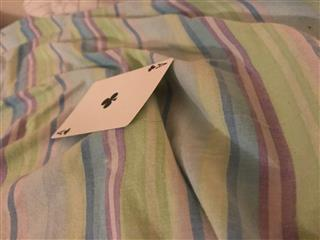AceOfClubs: (50, 57, 174, 138)
